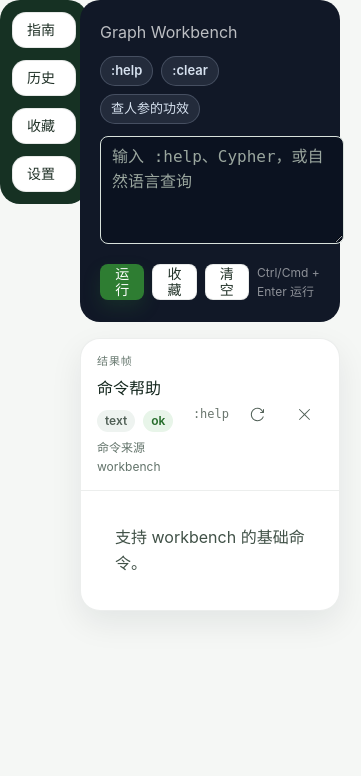
Test: GraphWorkbenchPage › reruns a frame command from frame chrome
Click the button named "重新执行命令 :help": (258, 414) x1=239 y1=399 x2=276 y2=429
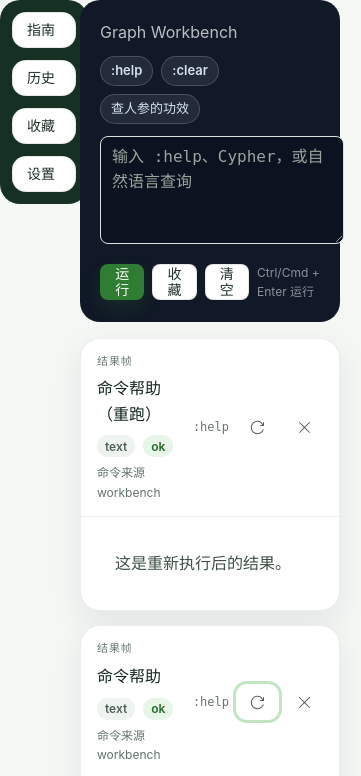
Now the text "命令帮助（重跑）" is shown, box x1=97 y1=378 x2=161 y2=424
Now the text "这是重新执行后的结果。" is shown, box x1=115 y1=551 x2=305 y2=576
